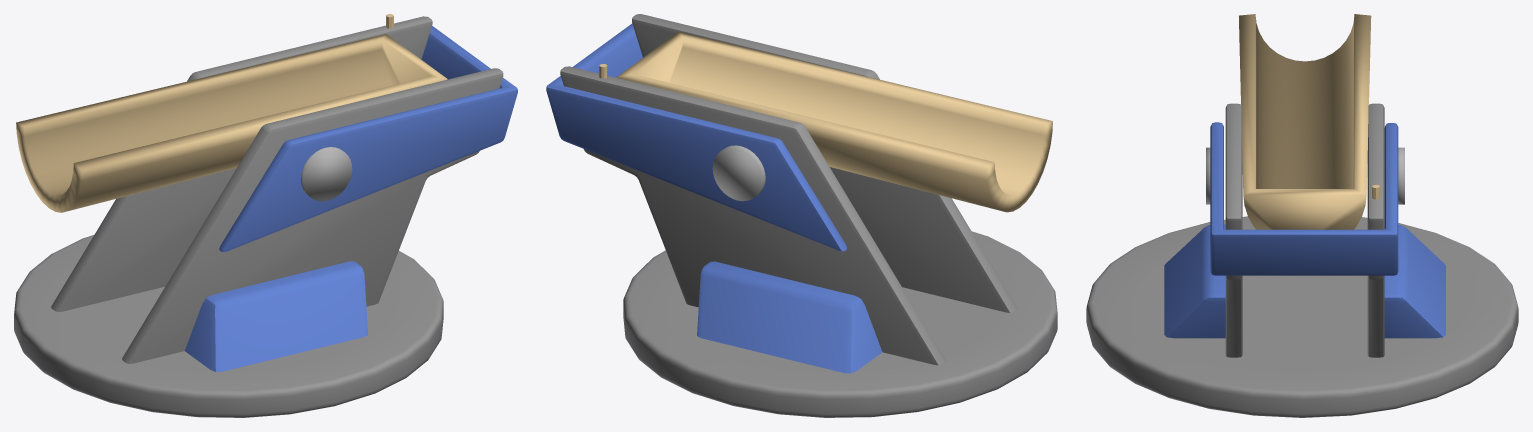
Rendered from rocketlauncher_test1_level1.fbx.
3 views of the same model, side by side, from view 1: azimuth 30°, elevation 25°; view 2: azimuth 150°, elevation 25°; view 3: azimuth 270°, elevation 25° (orthographic).
Visible parts, largest first — view 1: Weapon_01_1, rocket, screw2; view 2: Weapon_01_1, rocket, screw1; view 3: Weapon_01_1, rocket, screw1.
Part boxes in pixels (<box>): Weapon_01_1: <box>14,16,517,417</box>; rocket: <box>16,34,447,212</box>; screw2: <box>301,147,352,201</box>; Weapon_01_1: <box>546,14,1057,417</box>; rocket: <box>616,31,1052,212</box>; screw1: <box>712,145,765,201</box>; Weapon_01_1: <box>1086,103,1518,417</box>; rocket: <box>1239,14,1371,229</box>; screw1: <box>1398,147,1404,204</box>.
Size of the model in its own units: 103 by 54.44 by 89.18.
